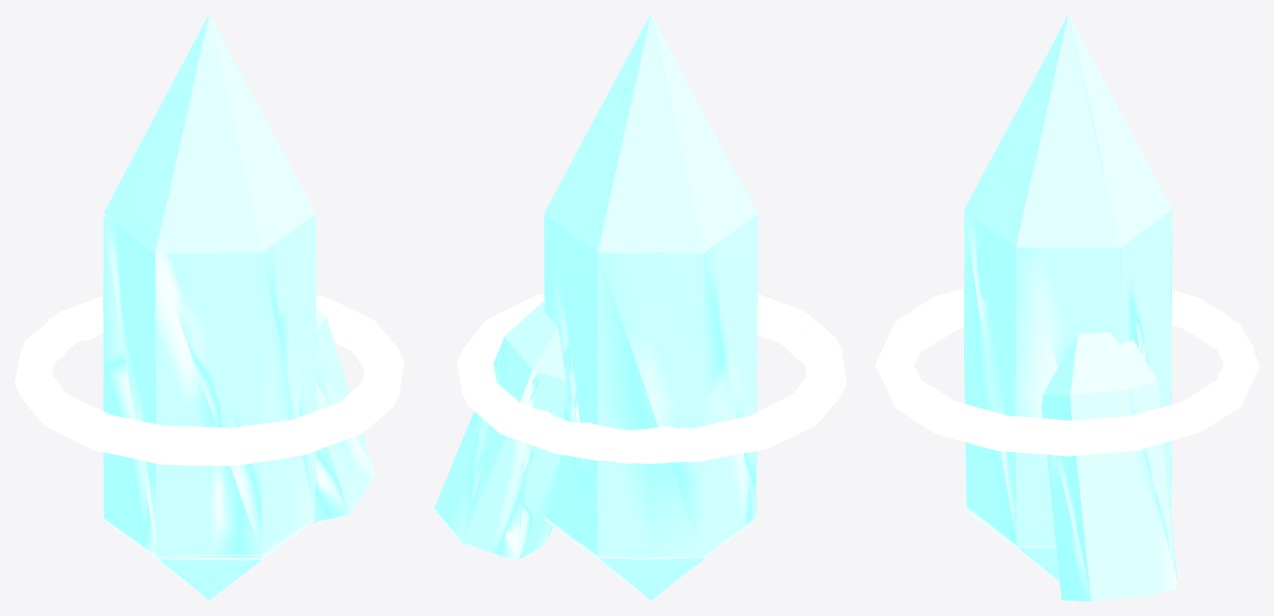
The model's file is crystal3.glb.
3 views of the same model, side by side, from view 1: azimuth 30°, elevation 25°; view 2: azimuth 150°, elevation 25°; view 3: azimuth 270°, elevation 25° (orthographic). The views are drawn at different scales.
Parts seen in each view (by area): view 1: JewelShaft; view 2: JewelShaft; view 3: JewelShaft.
Part boxes in pixels (box(x1,y1,x2,y2)): JewelShaft: box(14, 14, 404, 601); JewelShaft: box(433, 14, 846, 601); JewelShaft: box(875, 14, 1259, 601).
Size of the model in its own units: 1.14 by 1.83 by 1.11.
